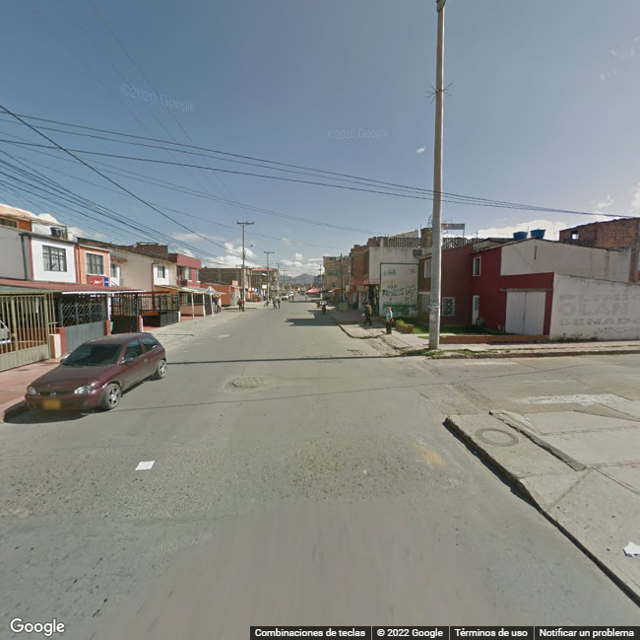D40: (272, 446, 453, 500)
